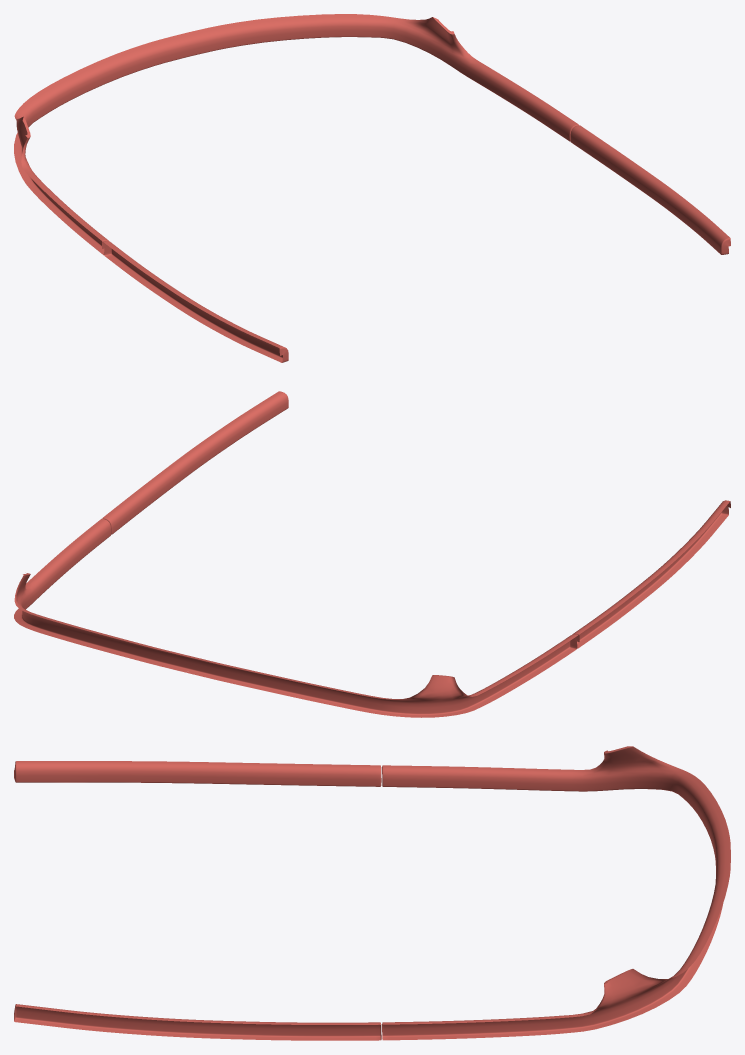
The model's file is body_05.fbx.
3 renders of one model, top to bottom at view 1: azimuth 30°, elevation 25°; view 2: azimuth 150°, elevation 25°; view 3: azimuth 270°, elevation 25°, orthographic. The views are drawn at different scales.
Parts seen in each view (by area): view 1: body_05; view 2: body_05; view 3: body_05.
Part boxes in pixels (x1,y1,x2,y2): body_05: (14, 14, 730, 362); body_05: (14, 391, 730, 717); body_05: (14, 746, 730, 1040).
Size of the model in its own units: 342 by 34.06 by 397.
